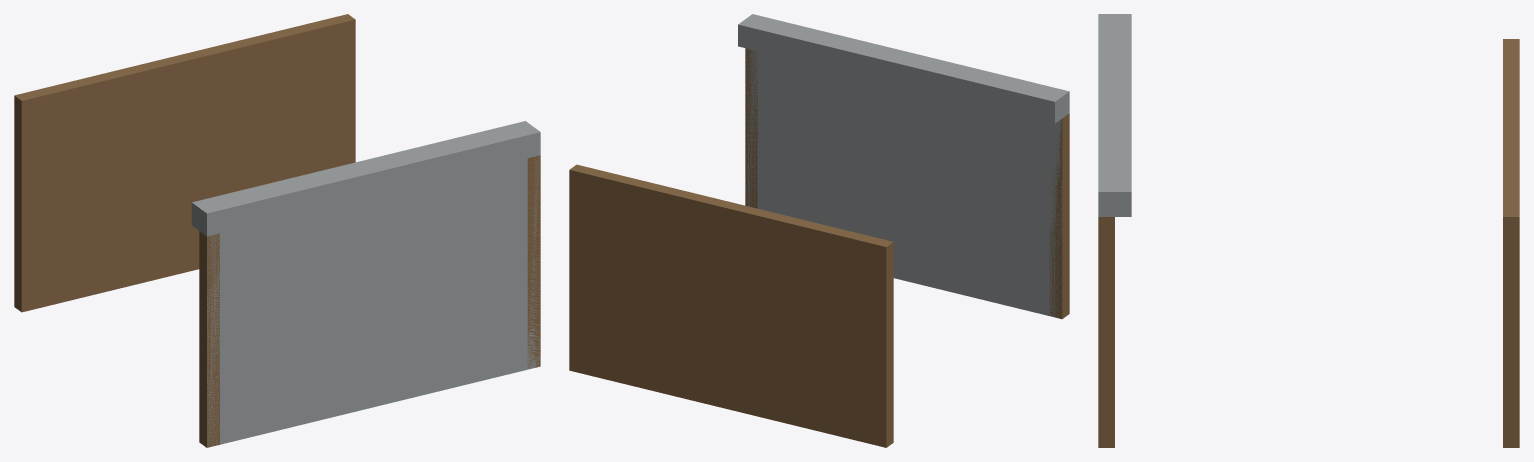
The model's file is stall-shut.glb.
3 renders of one model, left to right at view 1: azimuth 30°, elevation 25°; view 2: azimuth 150°, elevation 25°; view 3: azimuth 270°, elevation 25°, orthographic. The views are drawn at different scales.
Parts seen in each view (by area): view 1: stall-shut; view 2: stall-shut; view 3: stall-shut.
Part boxes in pixels (x1=…): stall-shut: x1=14, y1=14, x2=540, y2=447; stall-shut: x1=569, y1=14, x2=1069, y2=447; stall-shut: x1=1098, y1=14, x2=1519, y2=447.
Size of the model in its own units: 3.8 by 2.55 by 3.8.
